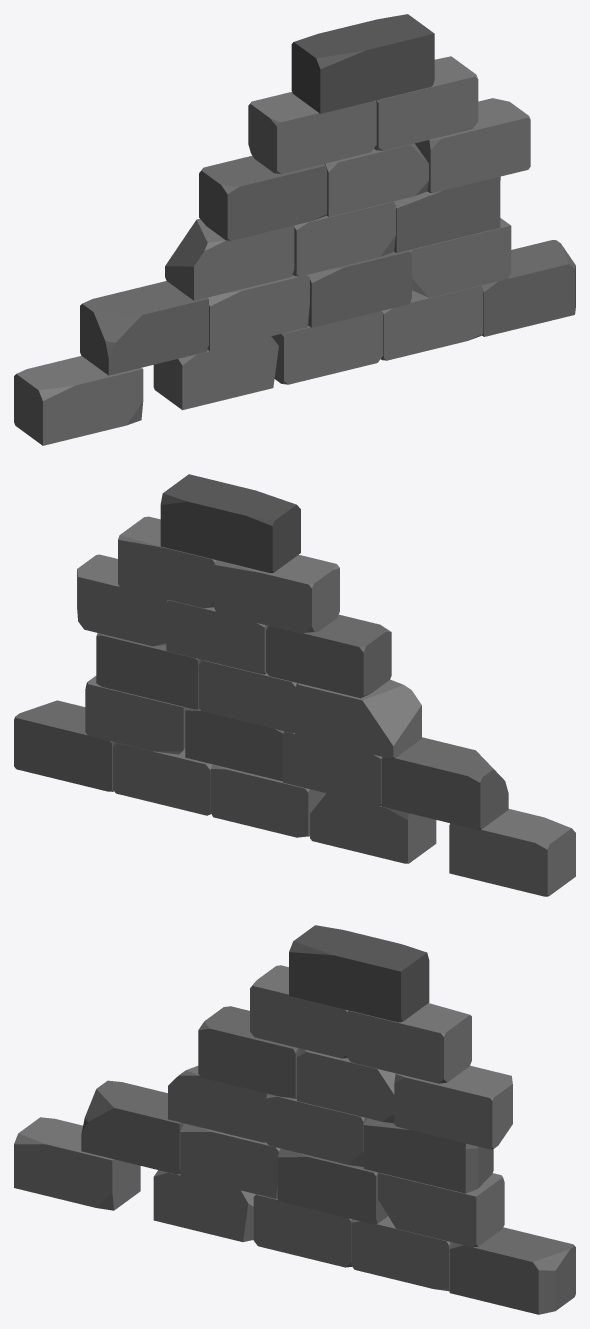
File: Ruins_07.fbx
3 renders of one model, top to bottom at view 1: azimuth 30°, elevation 25°; view 2: azimuth 150°, elevation 25°; view 3: azimuth 330°, elevation 25°, orthographic.
Parts seen in each view (by area): view 1: Ruins_07_LOD0; view 2: Ruins_07_LOD0; view 3: Ruins_07_LOD0.
Boxes of the visible parts, x1,y1,x2,y2 form: Ruins_07_LOD0: (14, 14, 575, 445); Ruins_07_LOD0: (14, 474, 575, 896); Ruins_07_LOD0: (14, 925, 575, 1314).
Size of what is drawn, in the model's own units: 400 by 222 by 40.84.
